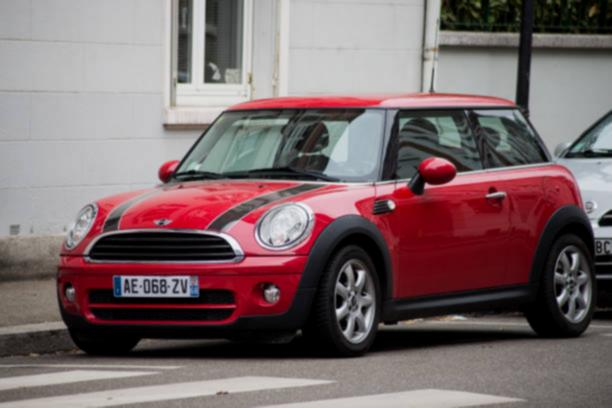mini: (148, 212, 180, 230)
